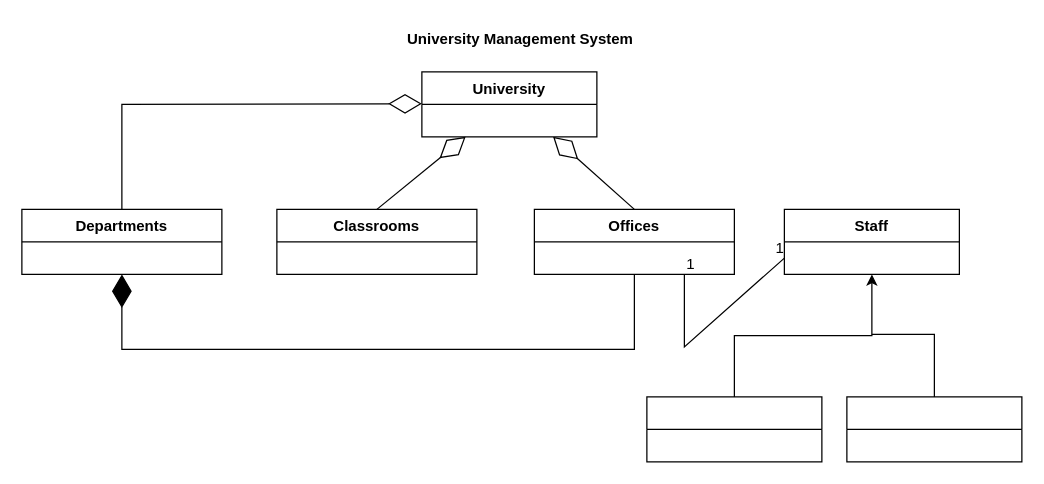
Image size: 1044x484. Some labels were removed from this diagram. Here are the shapes that lost their labels. From the top down, the centre of each, then its label:
At [734,429]: "Officers".
At [934,429]: "Professor".
